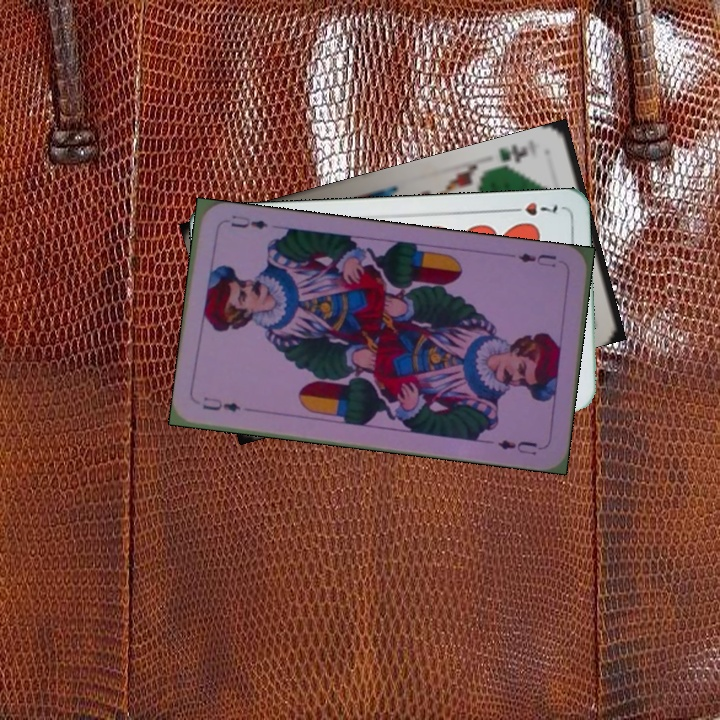EU: (199, 393, 243, 415), (514, 249, 559, 270)
GK: (490, 141, 531, 171)
H7: (504, 198, 560, 218)
